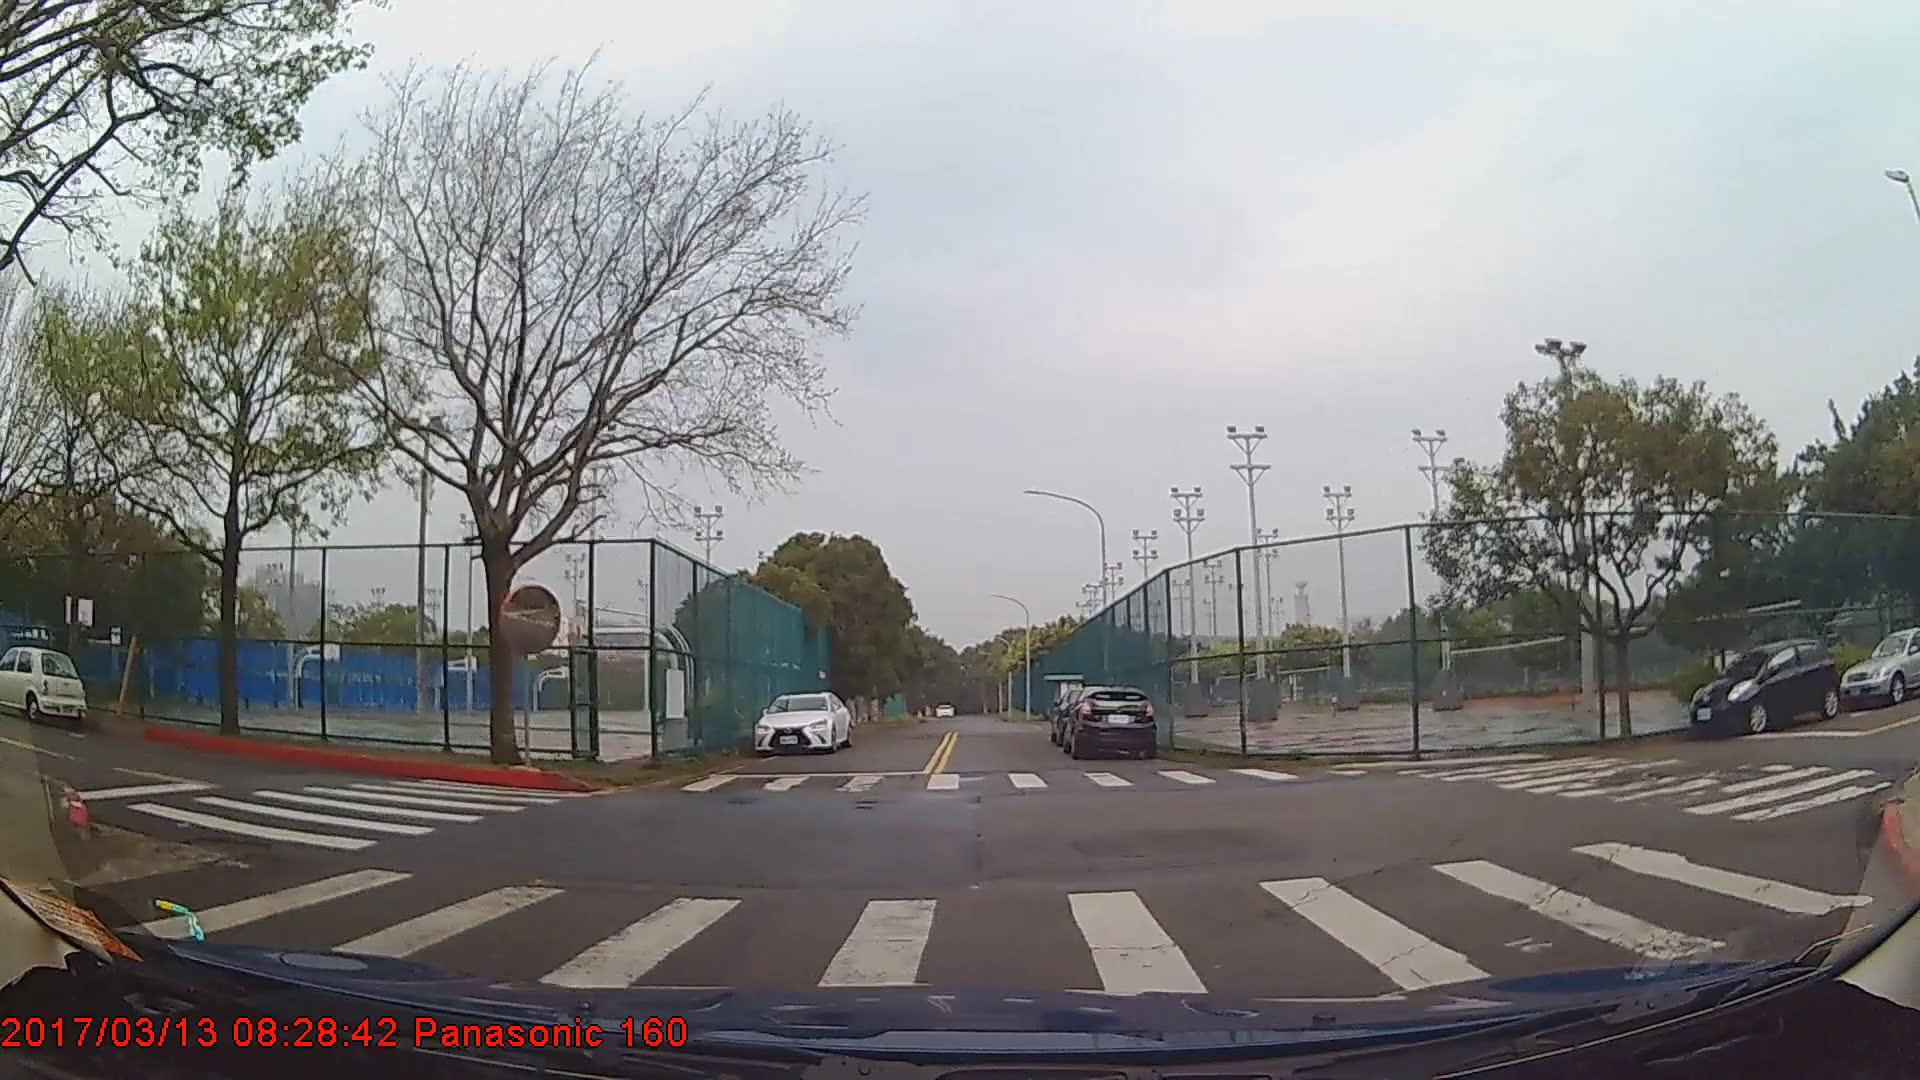vehicle: (1692, 638, 1841, 735), (0, 644, 88, 725), (1063, 684, 1156, 760), (753, 688, 849, 756), (1840, 626, 1920, 705)
